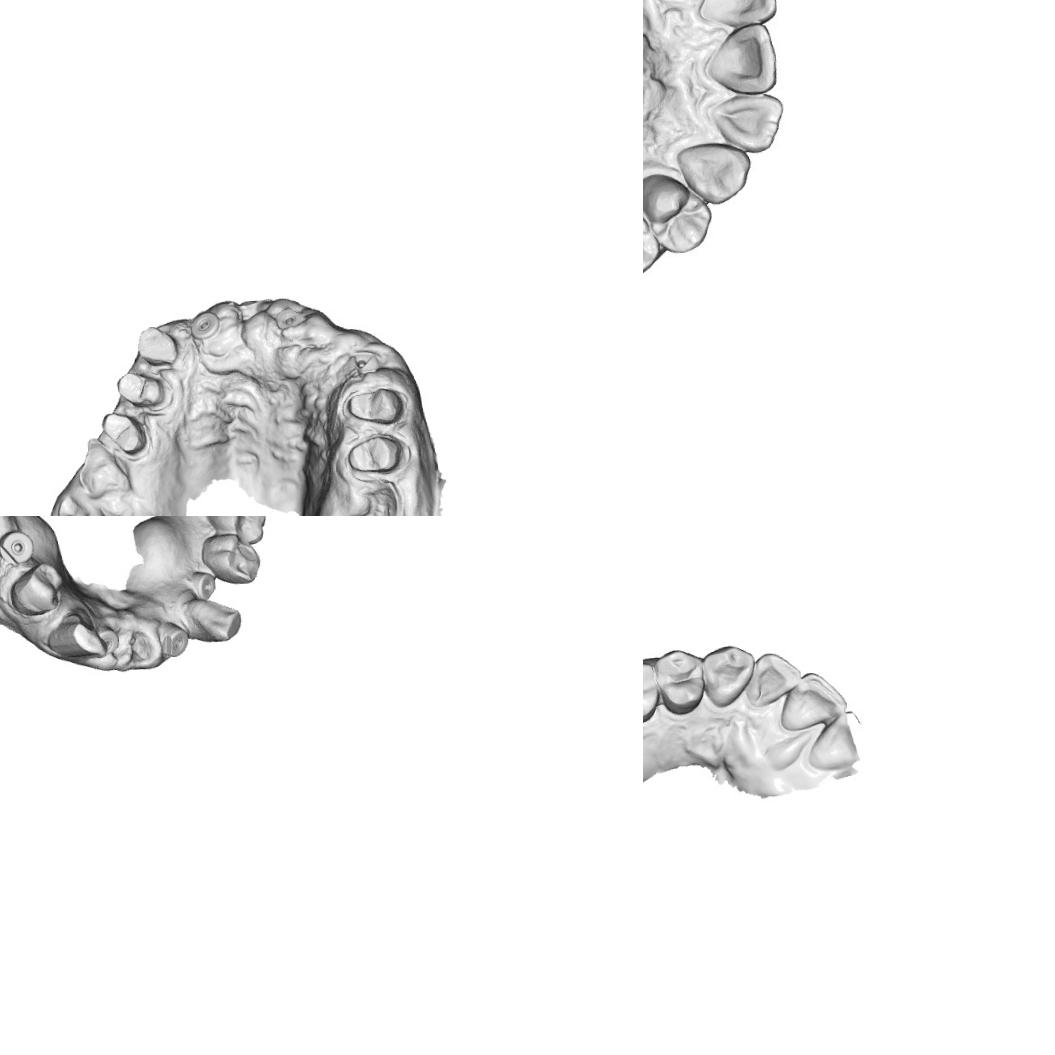canine: (681, 139, 754, 204), (698, 642, 758, 708), (45, 608, 106, 660), (182, 594, 242, 644)
crown: (98, 408, 152, 458), (345, 432, 405, 476), (344, 385, 408, 426), (115, 368, 165, 409), (135, 322, 179, 368)
implant: (156, 618, 190, 659), (0, 527, 35, 566), (186, 308, 222, 341), (187, 568, 218, 602), (272, 303, 309, 329), (95, 622, 121, 656)
incisor: (710, 23, 782, 101), (712, 87, 788, 152), (776, 668, 849, 732), (803, 708, 866, 773), (742, 649, 804, 708), (691, 0, 773, 24)
molar: (202, 516, 269, 549)
premolar: (643, 169, 717, 258), (652, 645, 706, 717), (198, 528, 262, 588), (5, 559, 66, 619), (643, 657, 662, 727)
